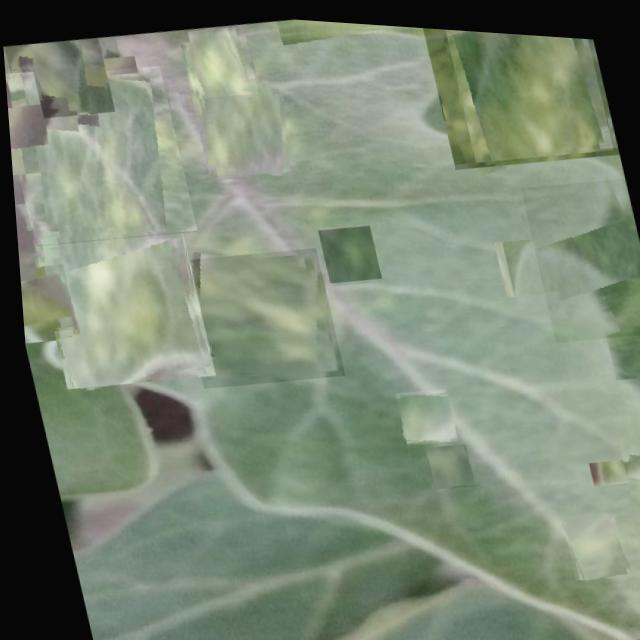leaf_spot: (3, 56, 195, 255), (28, 216, 212, 397), (420, 22, 619, 172), (170, 236, 341, 394), (444, 23, 613, 163), (518, 164, 640, 341), (188, 74, 296, 182), (3, 32, 114, 125), (276, 14, 483, 47), (180, 23, 258, 100), (4, 69, 54, 181), (554, 501, 622, 576), (15, 261, 72, 337), (314, 218, 379, 282), (606, 399, 640, 517), (389, 380, 451, 442), (418, 436, 469, 486)
